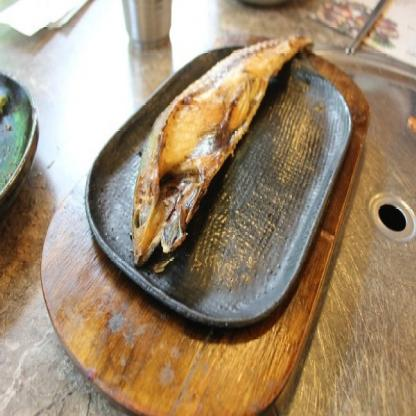Peixe: (117, 19, 332, 274)
